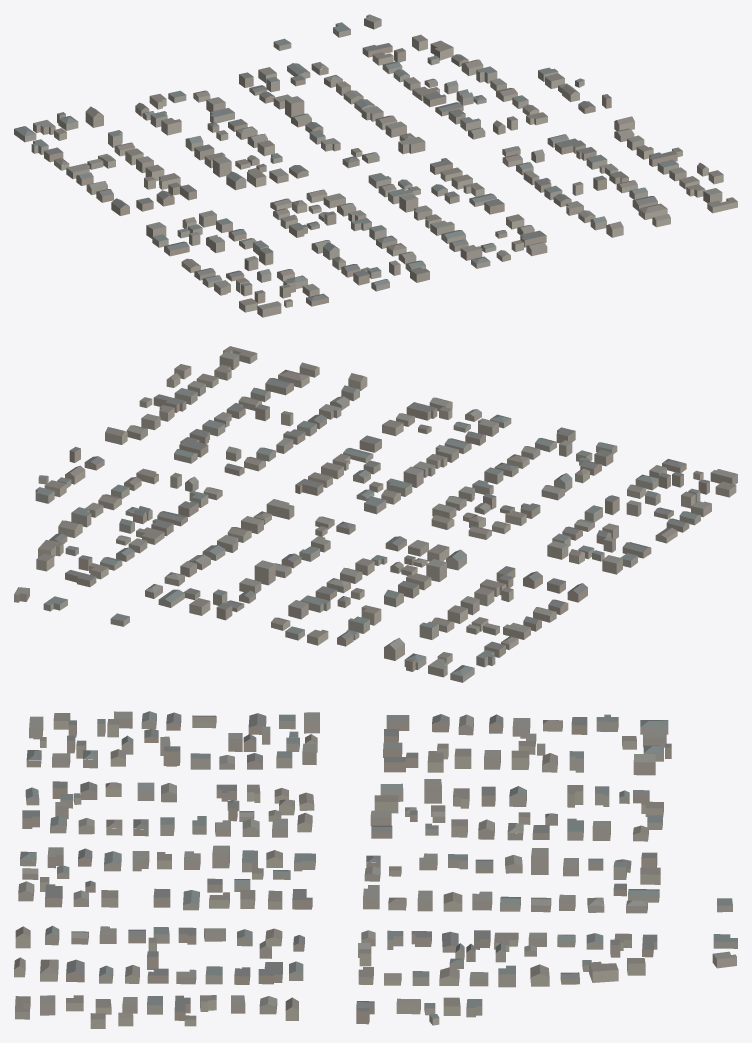
The model's file is 73c3fb71e53e-chunk-1201_11841.glb.
The picture shows the model from 3 angles, top to bottom: view 1: azimuth 30°, elevation 25°; view 2: azimuth 150°, elevation 25°; view 3: azimuth 270°, elevation 25°; orthographic projection. The views are drawn at different scales.
Visible parts, largest first — view 1: no part large enough to name; view 2: no part large enough to name; view 3: building_132569, building_102966.
Boxes of the visible parts, box(x1,y1,x2,y2) form: building_132569: box(589, 961, 618, 982); building_102966: box(384, 752, 418, 772).
Size of the model in its own units: 391 by 11.27 by 388.
